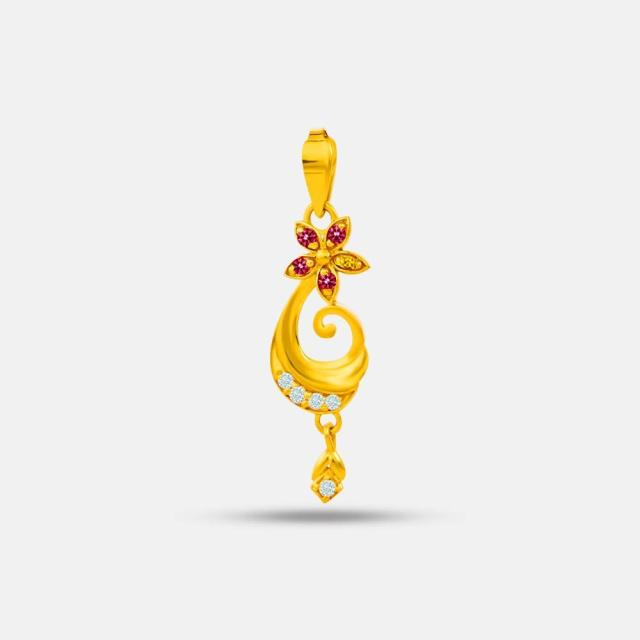missing gem: (333, 255, 366, 270)
